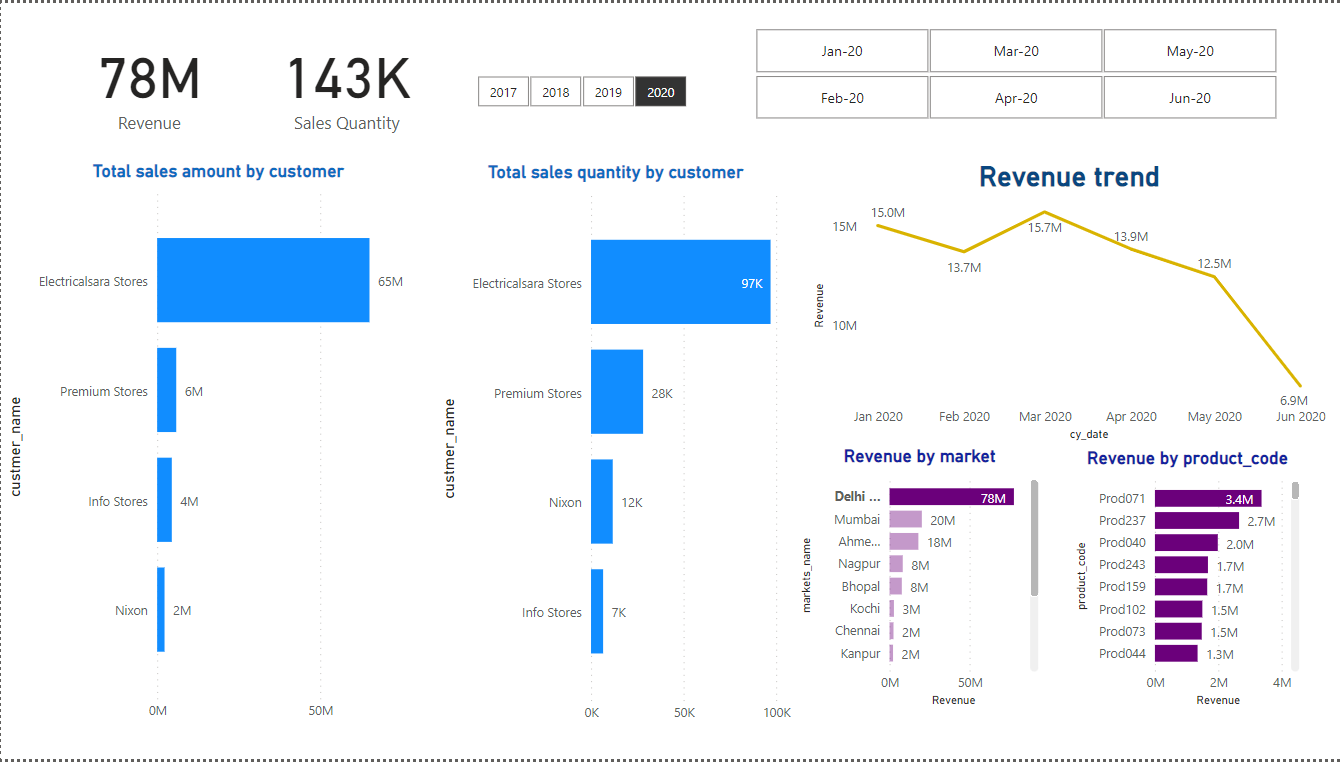

Layout of this report page (visuals, bound fields, positions):
{"tool":"powerbi","page":{"name":"Page 1","canvas":[1280,720],"ordinal":0},"visuals":[{"type":"card","fields":{"Values":["BaseMeasures.total_sales_qty"]},"box":[245.7,18.6,168.6,114.3],"z":0},{"type":"barChart","title":"Total sales amount by customer","fields":{"Y":["BaseMeasures.total_sales_amount"],"Category":["sales customers.custmer_name"]},"box":[0,150,414,542],"z":2000},{"type":"barChart","title":"Total sales quantity by customer","fields":{"Y":["BaseMeasures.total_sales_qty"],"Category":["sales customers.custmer_name"]},"box":[414,152,344,542],"z":3000},{"type":"slicer","fields":{"Values":["sales date.year"]},"box":[428,64,248,42],"z":3001},{"type":"slicer","fields":{"Values":["sales date.cy_date"]},"box":[693.3,18.3,545,98.3],"z":3002},{"type":"barChart","title":"Revenue by market","fields":{"Y":["BaseMeasures.Revenue"],"Category":["sales markets.markets_name"]},"box":[756.7,421.7,236.7,253.3],"z":3004},{"type":"card","fields":{"Values":["BaseMeasures.Revenue"]},"box":[18.6,0,245.7,150],"z":3005},{"type":"barChart","fields":{"Y":["BaseMeasures.Revenue"],"Category":["sales products.product_code"]},"box":[1018.3,423.3,223.3,251.7],"z":3006},{"type":"lineChart","title":"Revenue trend","fields":{"Y":["BaseMeasures.Revenue"],"Category":["sales date.cy_date"]},"box":[768.3,150,498.3,271.7],"z":3007}]}

Visuals, with their boxes in screenshot pixels (x1, y1, x2, y2), scaled from the page's 1280x720 canvas onto the 1342x764 screenshot:
card - BaseMeasures.total_sales_qty: rect(258, 20, 434, 141)
"Total sales amount by customer" barChart: rect(0, 159, 434, 734)
"Total sales quantity by customer" barChart: rect(434, 161, 795, 736)
slicer - sales date.year: rect(449, 68, 709, 112)
slicer - sales date.cy_date: rect(727, 19, 1298, 124)
"Revenue by market" barChart: rect(793, 447, 1042, 716)
card - BaseMeasures.Revenue: rect(20, 0, 277, 159)
barChart - BaseMeasures.Revenue x sales products.product_code: rect(1068, 449, 1302, 716)
"Revenue trend" lineChart: rect(806, 159, 1328, 447)
